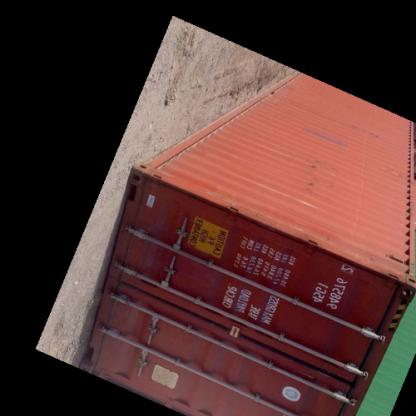Damage: (175, 252, 221, 292), (301, 122, 350, 146), (304, 150, 323, 197), (354, 118, 386, 136)
